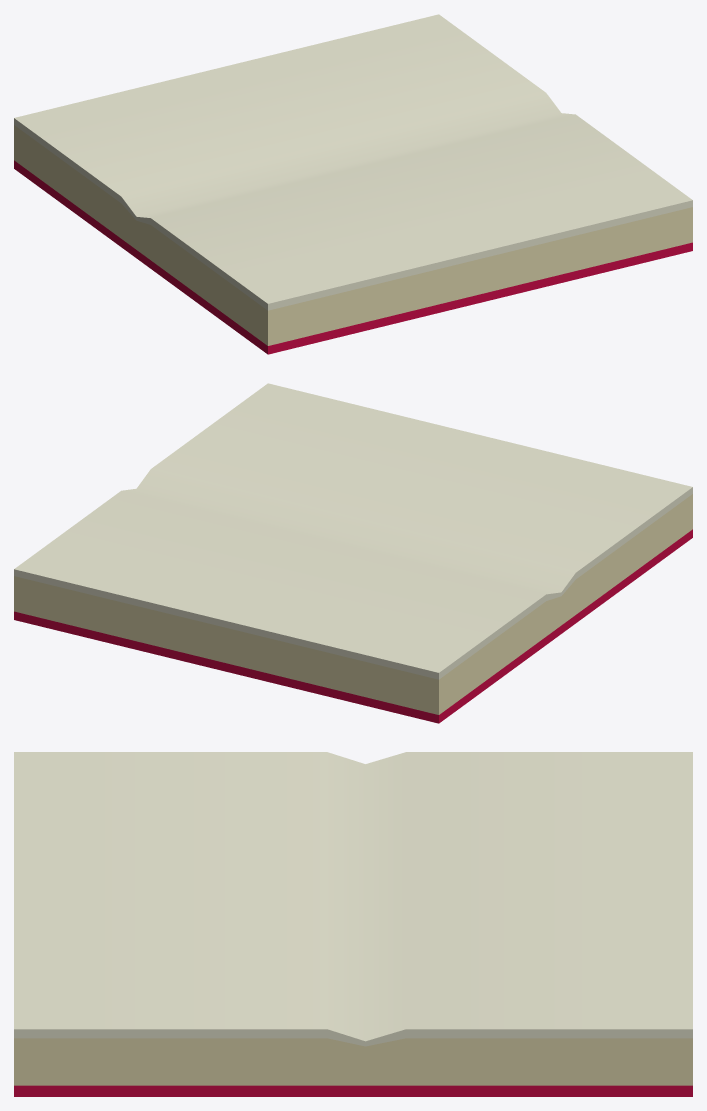
The model's file is CookBook_Open.fbx.
3 views of the same model, one above another, from view 1: azimuth 30°, elevation 25°; view 2: azimuth 150°, elevation 25°; view 3: azimuth 270°, elevation 25° (orthographic). The views are drawn at different scales.
Visible parts, largest first — view 1: CookBook_Open; view 2: CookBook_Open; view 3: CookBook_Open.
Boxes of the visible parts, x1,y1,x2,y2 form: CookBook_Open: (14,14,692,354); CookBook_Open: (14,383,692,723); CookBook_Open: (14,752,692,1096).
Size of the model in its own units: 57.41 by 7.35 by 59.44.
